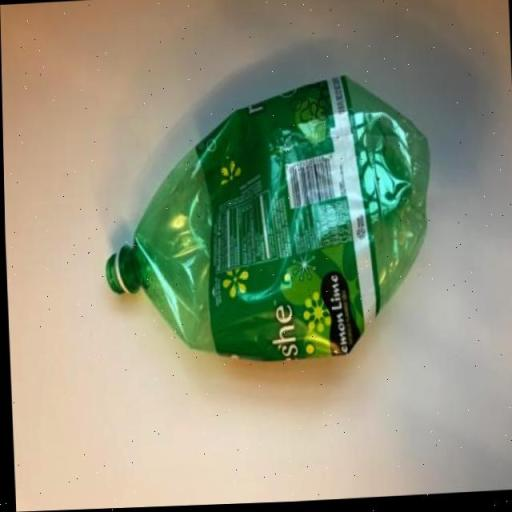plastic: (97, 74, 435, 372)
